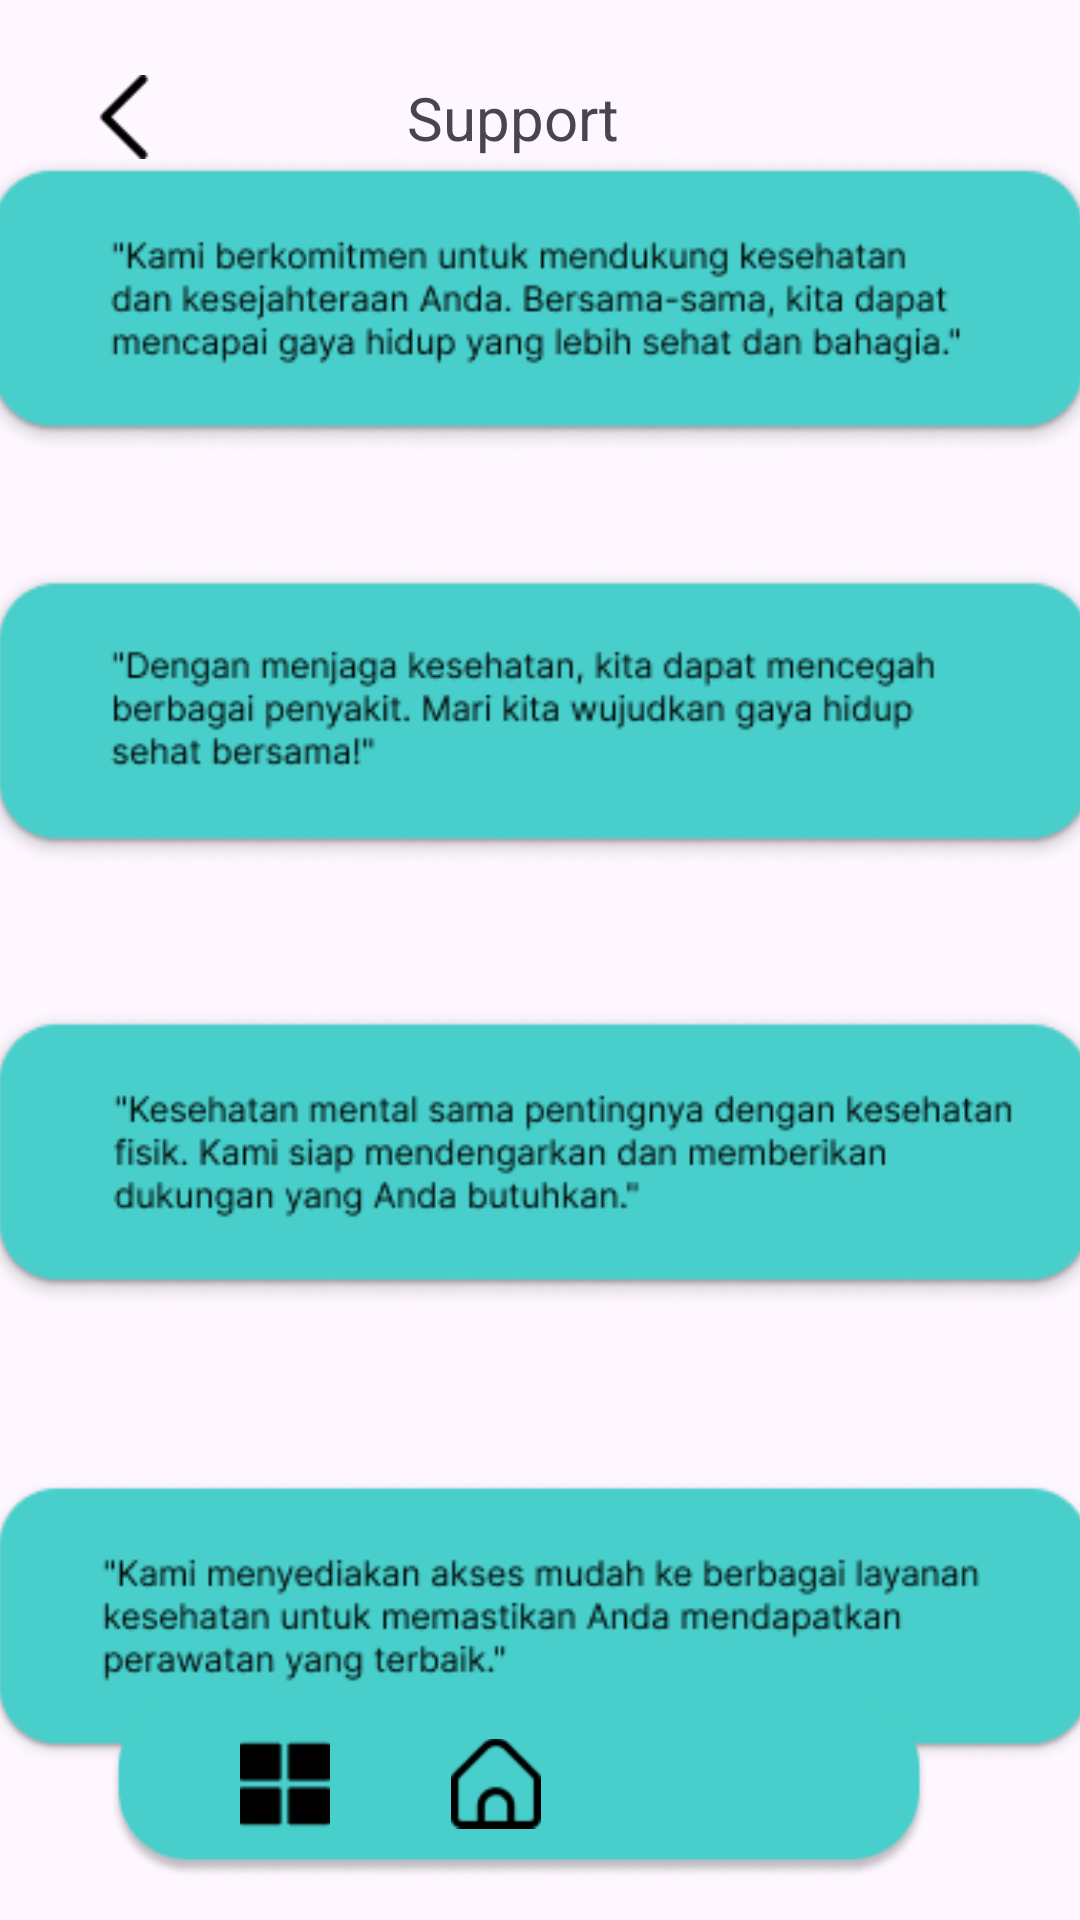

Icon click points for this 1080w x 1920h phone screenshot, format (x,y):
iconback: (124,117)
